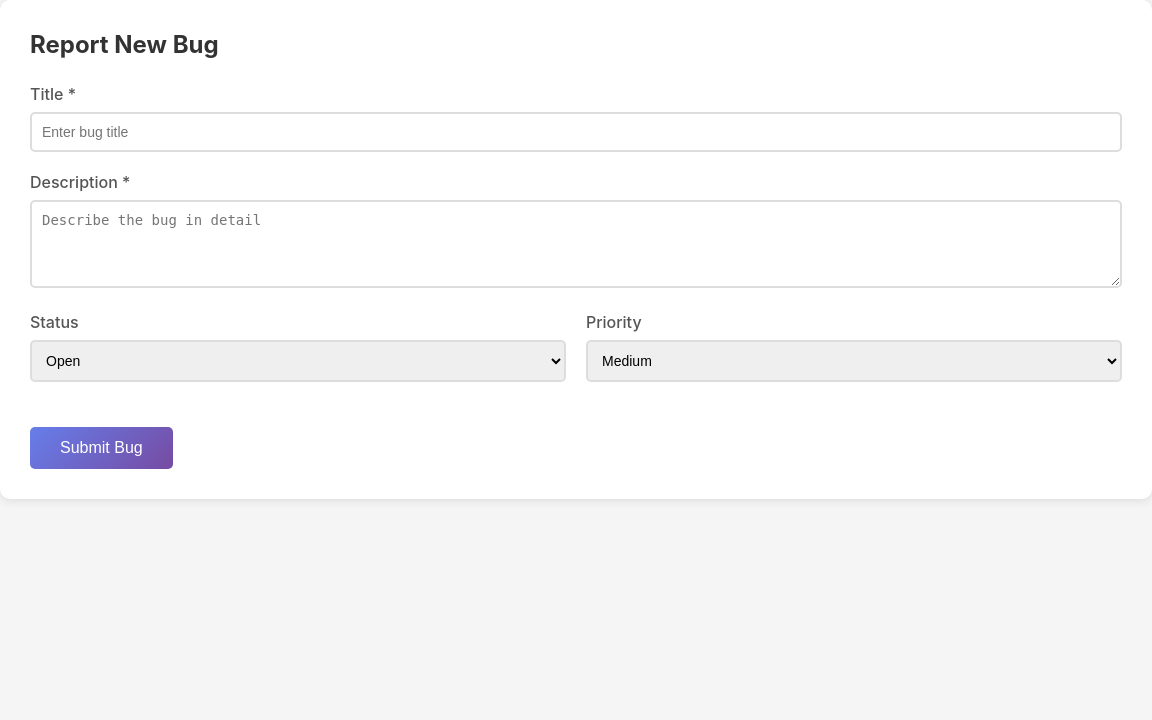
Test: BugForm Component › clears error message when user starts typing
Click the button "Submit Bug": [101, 448] box [30, 427, 173, 469]
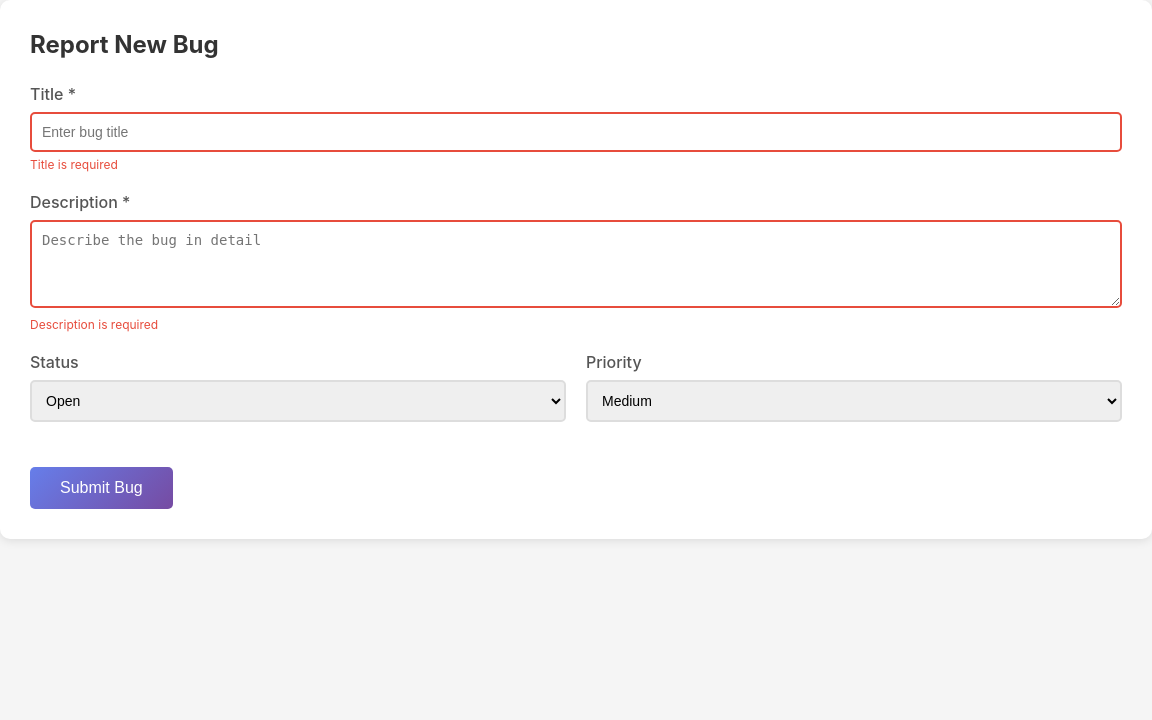
Expected: the text "Title is required" is shown, [30, 157, 118, 172]
In the field labelled "Title *": [576, 132] box [30, 112, 1122, 152], type "T"
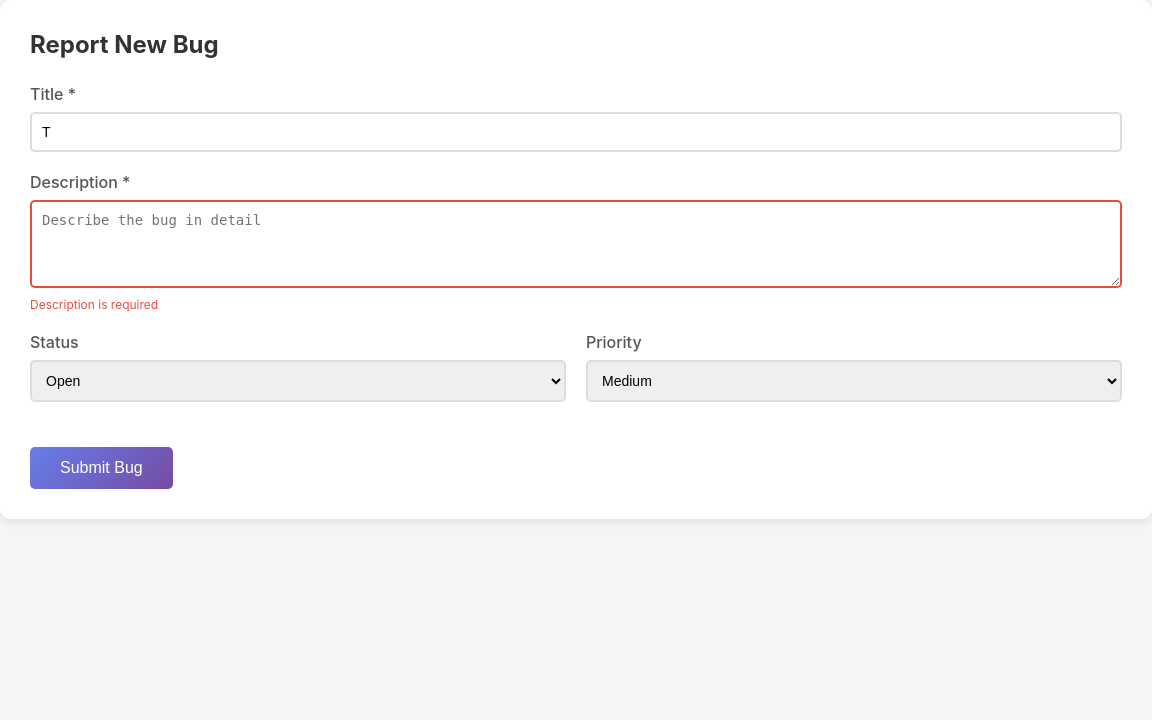
Expected: the text "Title is required" is gone
